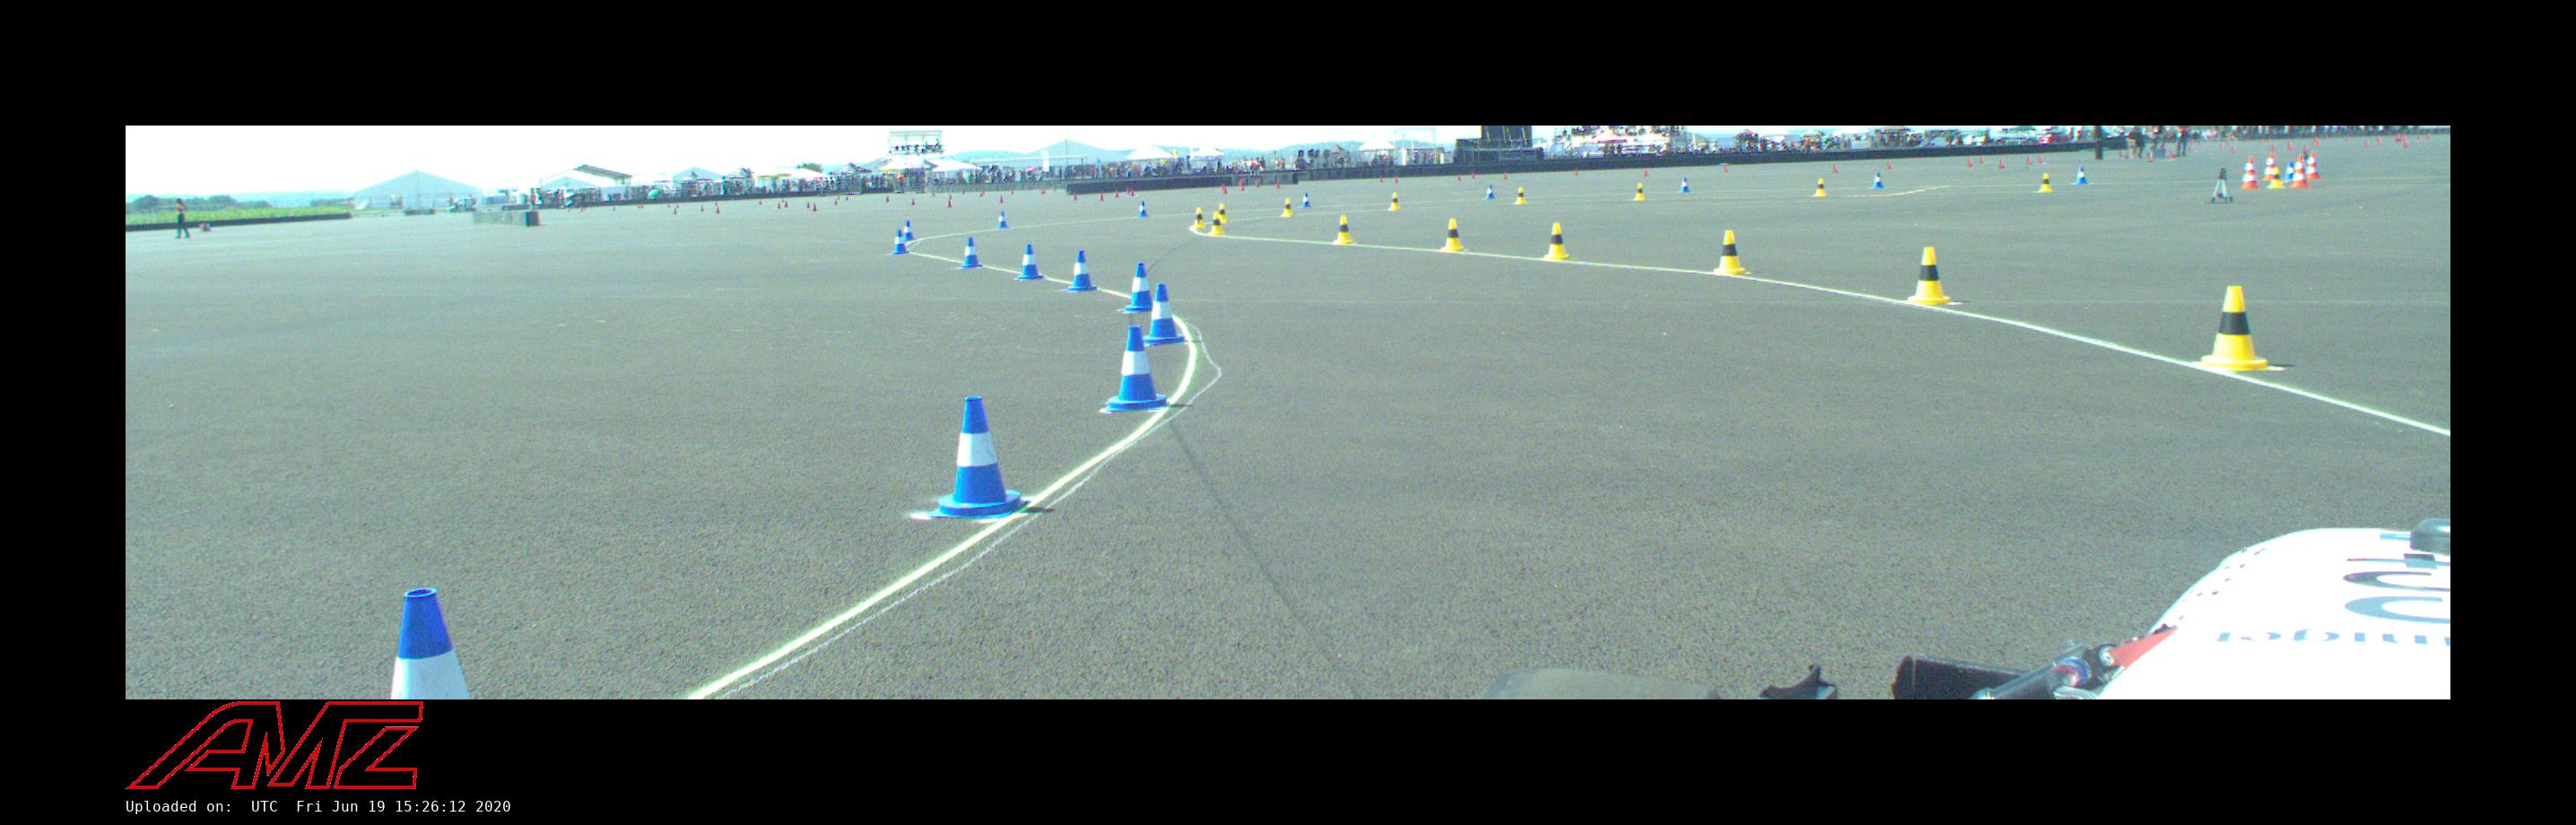blue_cone: (928, 396, 1028, 518), (389, 587, 473, 698), (1104, 325, 1170, 411), (1143, 283, 1186, 345), (1122, 263, 1152, 312), (1068, 250, 1097, 293), (1017, 243, 1040, 279), (961, 237, 982, 270), (890, 230, 910, 255), (2073, 168, 2090, 184), (902, 220, 913, 242), (1871, 173, 1886, 189), (1135, 202, 1148, 219), (1483, 184, 1497, 200), (997, 210, 1009, 228), (1677, 177, 1690, 192), (2285, 163, 2295, 181), (1301, 192, 1311, 207)
large_orange_cone: (2239, 156, 2259, 189), (2290, 154, 2308, 187), (2305, 151, 2320, 181), (2264, 151, 2277, 179)
yellow_cone: (2200, 288, 2267, 370), (1906, 248, 1948, 304), (1714, 232, 1745, 274), (1543, 224, 1569, 261), (1441, 219, 1465, 251), (1332, 217, 1354, 243), (1207, 214, 1224, 235), (2037, 173, 2054, 192), (1214, 204, 1227, 222), (1388, 192, 1401, 210), (2269, 169, 2282, 187), (1193, 209, 1204, 228), (1814, 179, 1827, 196), (1633, 182, 1644, 200), (1281, 199, 1293, 215), (1515, 189, 1526, 204)
